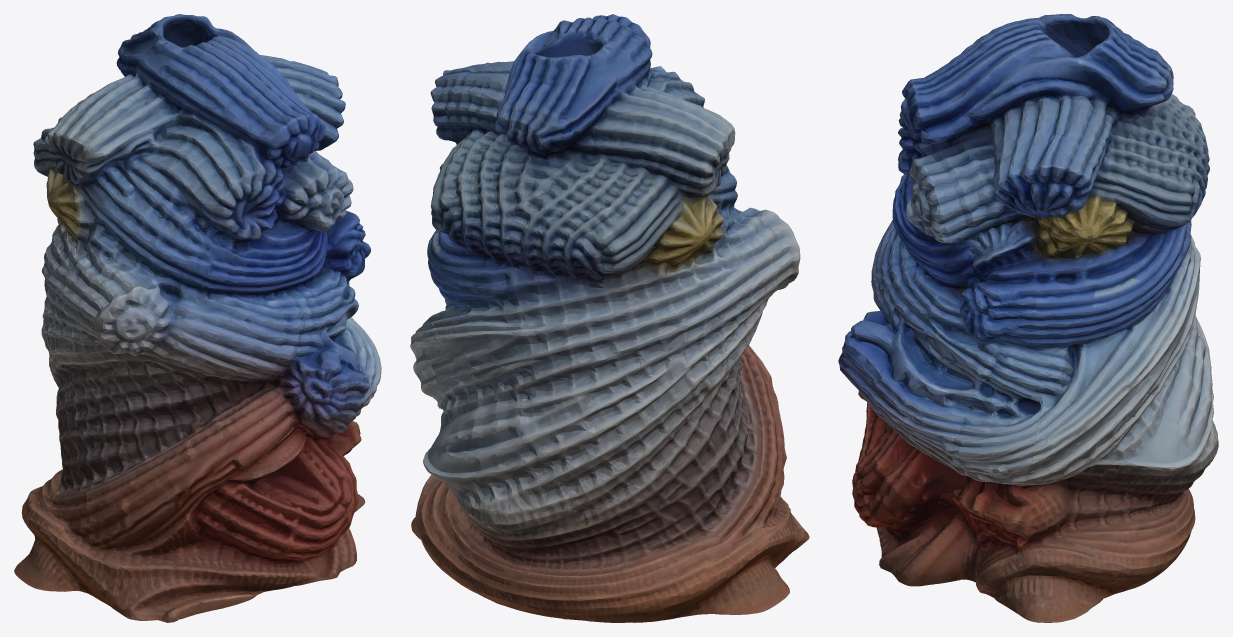
Rendered from 05_5_js_blob_candle2-opt-v19.glb.
3 renders of one model, left to right at view 1: azimuth 30°, elevation 25°; view 2: azimuth 150°, elevation 25°; view 3: azimuth 270°, elevation 25°, orthographic. The views are drawn at different scales.
Parts seen in each view (by area): view 1: tripo_node_d6d3441b-fd17-41c5-ada8-ec5ec427c187; view 2: tripo_node_d6d3441b-fd17-41c5-ada8-ec5ec427c187; view 3: tripo_node_d6d3441b-fd17-41c5-ada8-ec5ec427c187.
Boxes of the visible parts, x1=… form: tripo_node_d6d3441b-fd17-41c5-ada8-ec5ec427c187: x1=14, y1=14, x2=381, y2=622; tripo_node_d6d3441b-fd17-41c5-ada8-ec5ec427c187: x1=410, y1=14, x2=809, y2=622; tripo_node_d6d3441b-fd17-41c5-ada8-ec5ec427c187: x1=838, y1=14, x2=1218, y2=622.
Bounding box in the file's own units: 0.1429 × 0.2 × 0.1327.
Materials: 1 (1 with a texture image).
